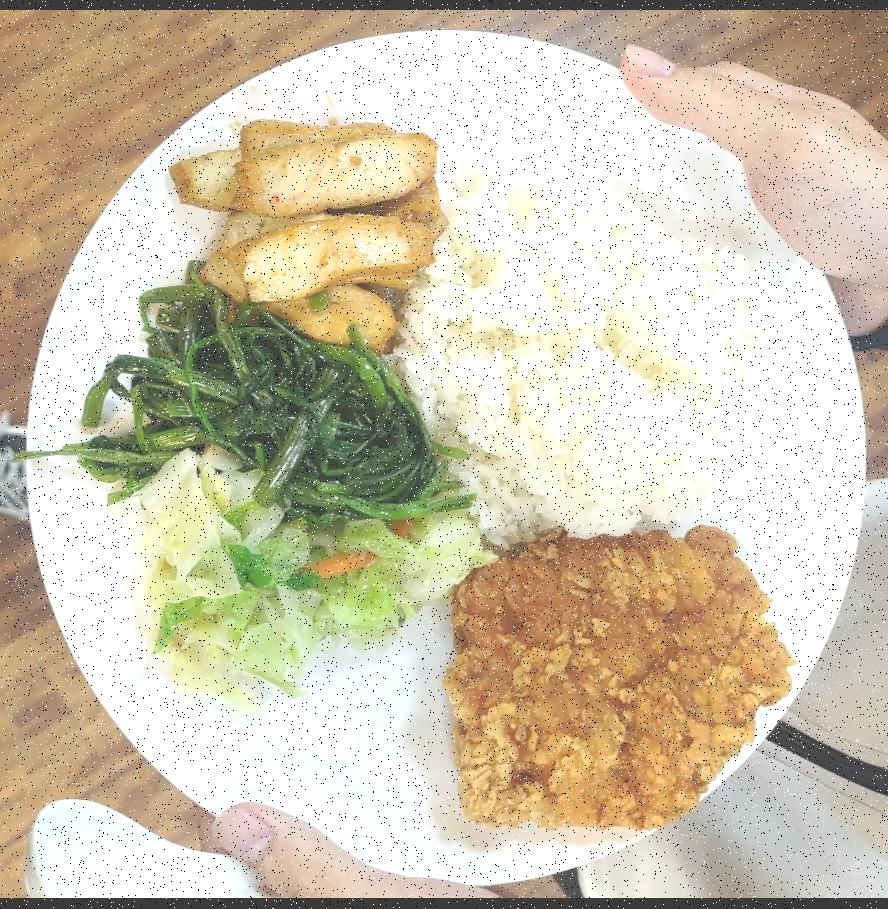big fried chicken leg: (23, 33, 882, 897)
big herbal chicken leg: (399, 143, 794, 547)
braised fish fillet: (86, 289, 448, 525), (134, 470, 470, 704), (163, 106, 448, 360)
braised pork: (441, 523, 800, 838)
